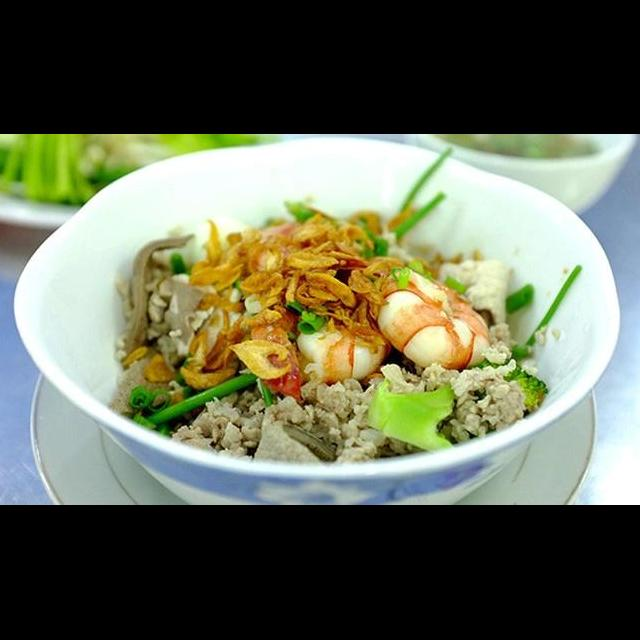gan: (98, 342, 192, 420)
thit bam: (375, 336, 530, 452), (274, 370, 390, 466), (166, 387, 271, 468)
thit heo: (432, 254, 519, 338)
tom: (240, 264, 394, 410), (367, 262, 502, 374)
trung: (163, 212, 255, 270)
